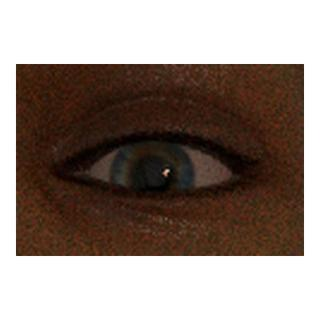pupil: (132, 157, 171, 196)
